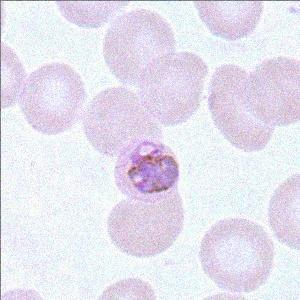Infected: (112, 138, 179, 203)
Uninfected: (205, 63, 274, 150), (102, 10, 176, 86), (201, 218, 273, 293), (85, 84, 159, 154), (139, 52, 205, 124), (19, 63, 84, 135), (107, 195, 183, 256), (238, 57, 300, 128)
